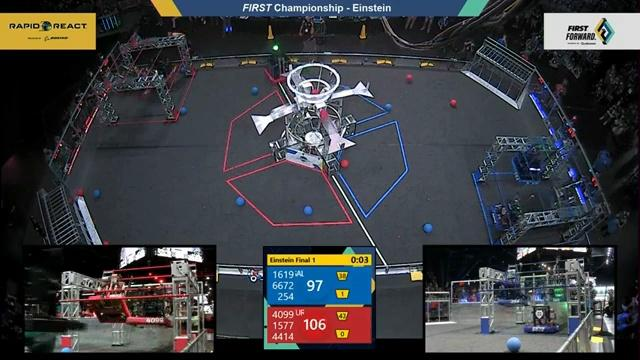robot: (505, 138, 552, 186), (126, 289, 172, 330), (258, 39, 298, 86), (90, 276, 130, 323), (139, 45, 179, 90), (486, 191, 529, 232), (112, 59, 151, 103), (525, 305, 560, 334)
